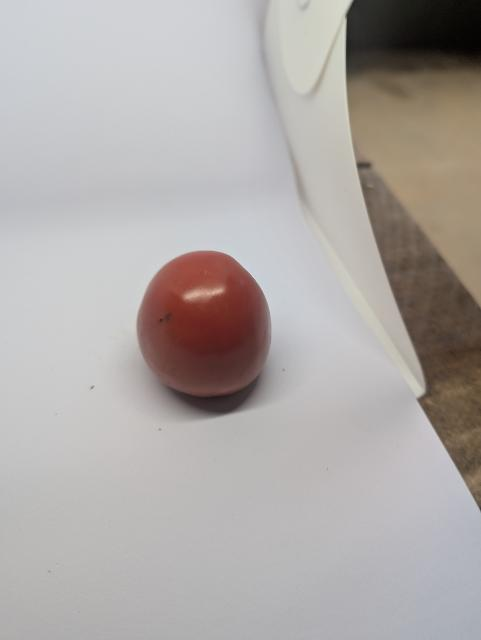red: (126, 237, 296, 413)
